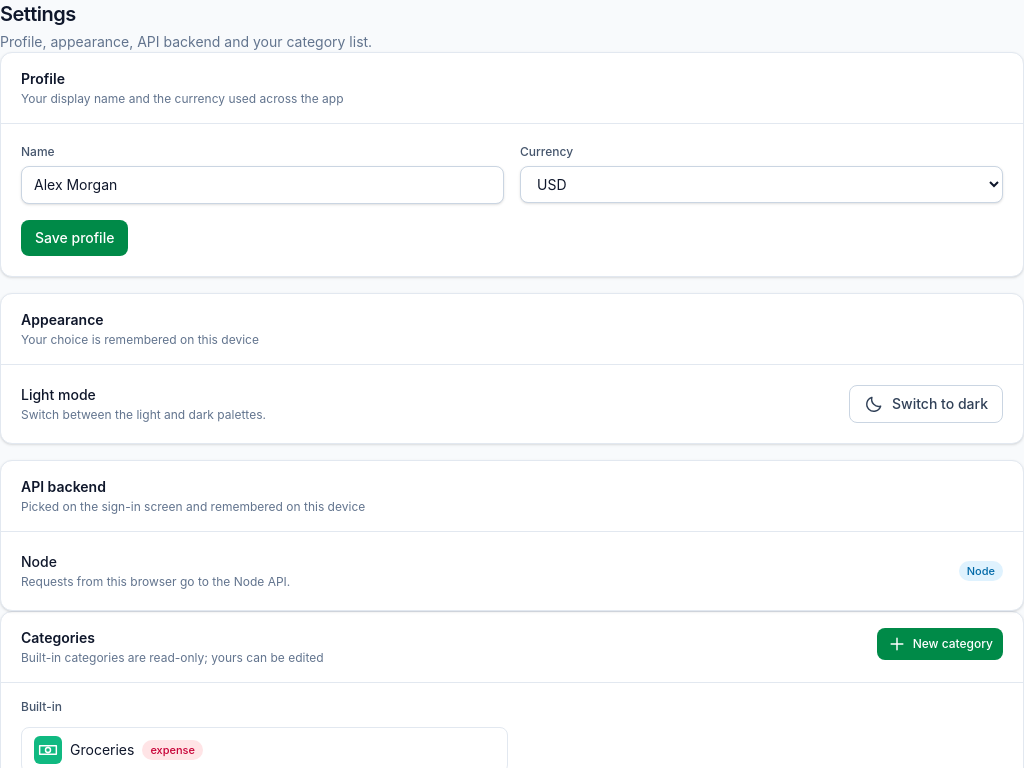
it: SettingsPage › toggles dark mode and persists the choice
Expected: the text "Light mode" is shown, left=21, top=386, right=96, bottom=403
Click the button "Switch to dark". click: {"x": 926, "y": 404}
box: left=849, top=385, right=1003, bottom=423
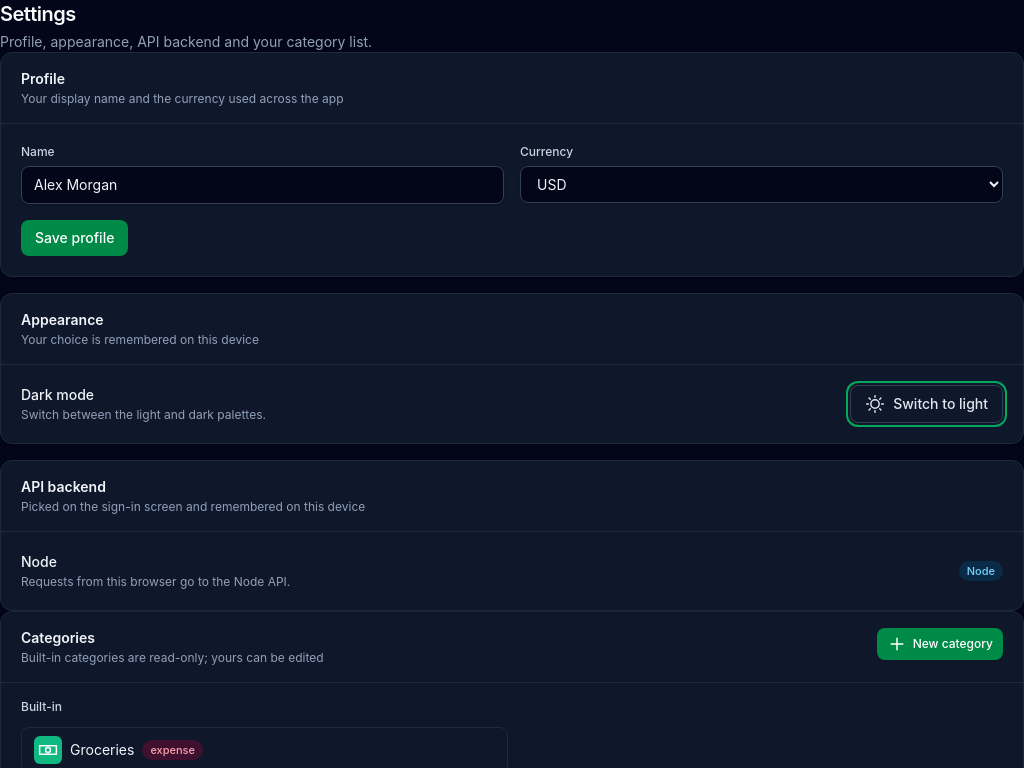
Expected: the text "Dark mode" is shown, left=21, top=386, right=94, bottom=403
